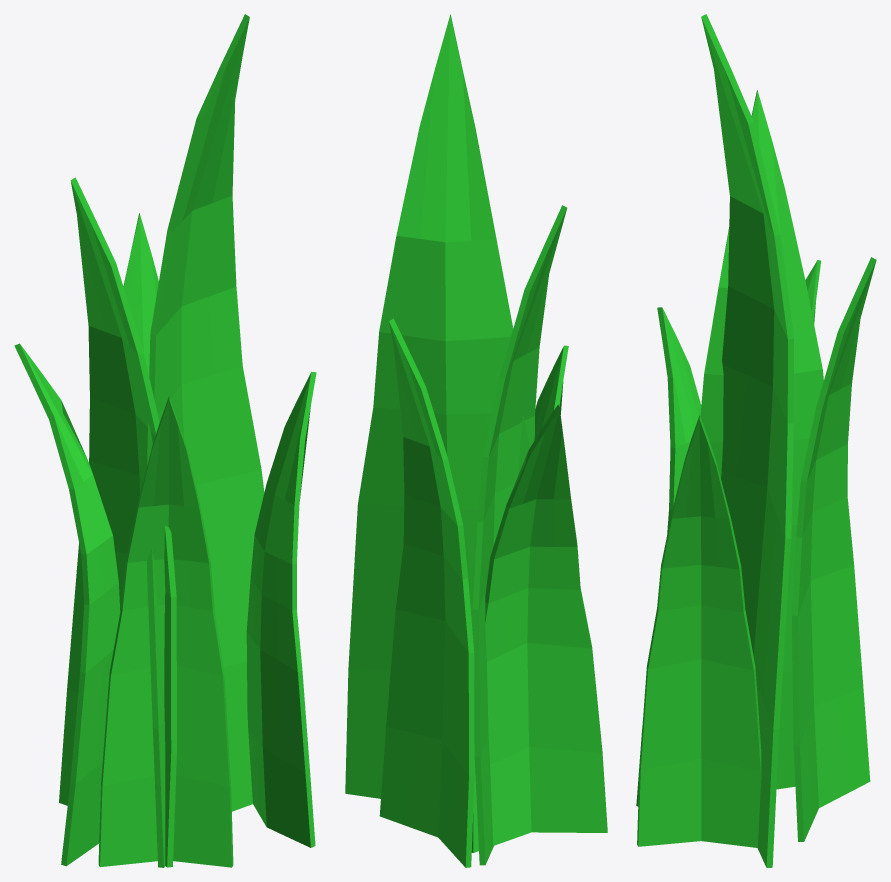
The model's file is grass.fbx.
3 renders of one model, left to right at view 1: azimuth 30°, elevation 25°; view 2: azimuth 150°, elevation 25°; view 3: azimuth 270°, elevation 25°, orthographic. The views are drawn at different scales.
Parts seen in each view (by area): view 1: Plane.011; view 2: Plane.011; view 3: Plane.011.
Part boxes in pixels (x1=…): Plane.011: x1=14, y1=14, x2=316, y2=867; Plane.011: x1=345, y1=14, x2=607, y2=867; Plane.011: x1=636, y1=14, x2=876, y2=867.
Bounding box in the file's own units: 396 × 1217 × 325.
